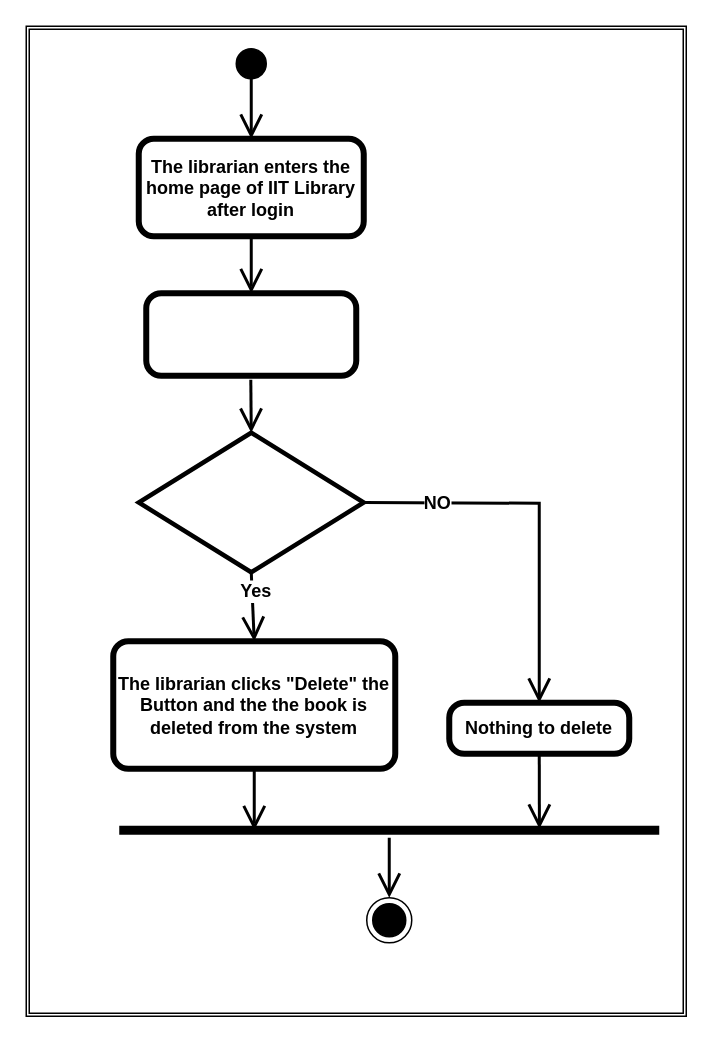
Image size: 713x1043. Some labels were removed from this diagram. Here are the shapes that lost their labels. From the top down, the box of each, then its label:
(145, 292, 356, 376): The Librarian searches for a book
(136, 430, 365, 574): Book Found
